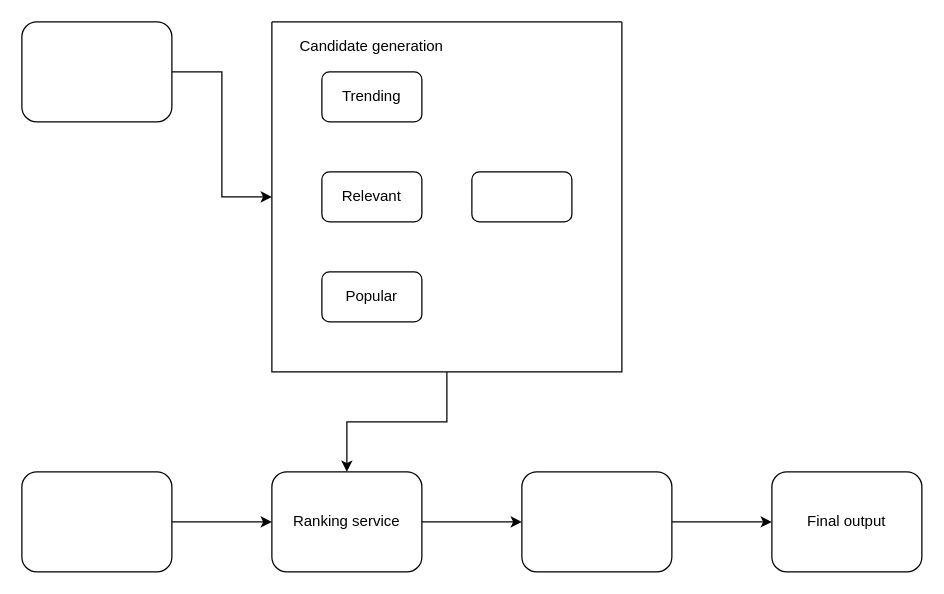
This 944x594 diagram has some shape labels left out. Each missing label, with the centre of its shape:
"Item pool" belongs at [96,71].
"Production model" belongs at [96,521].
"Re-ranking" belongs at [596,521].
